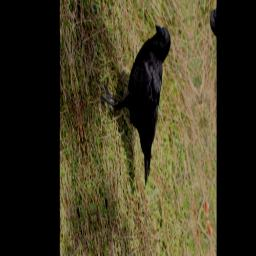Crow: (92, 22, 190, 200)
